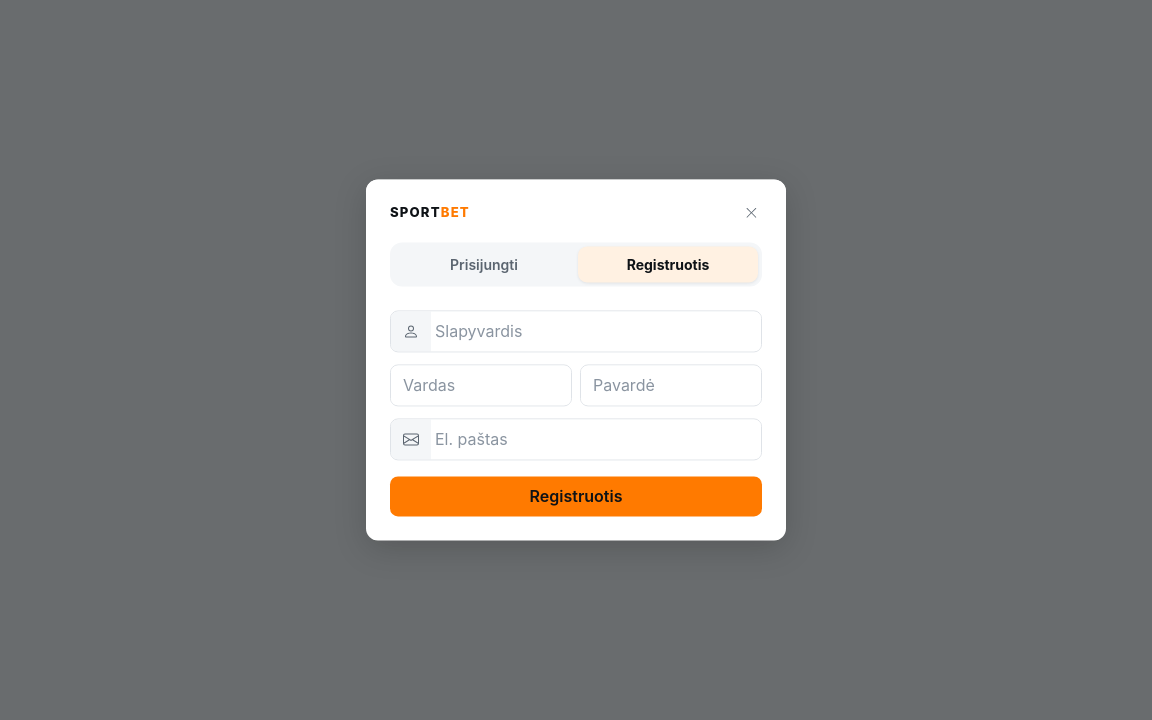
the tabs and the register form › shows a refusal that belongs to no field above the register form (Q2)
The width and height of the screenshot is (1152, 720).
Type "naujoke" into the field with placeholder "Slapyvardis".
click(596, 332); type("naujoke")  # box [431, 312, 761, 352]
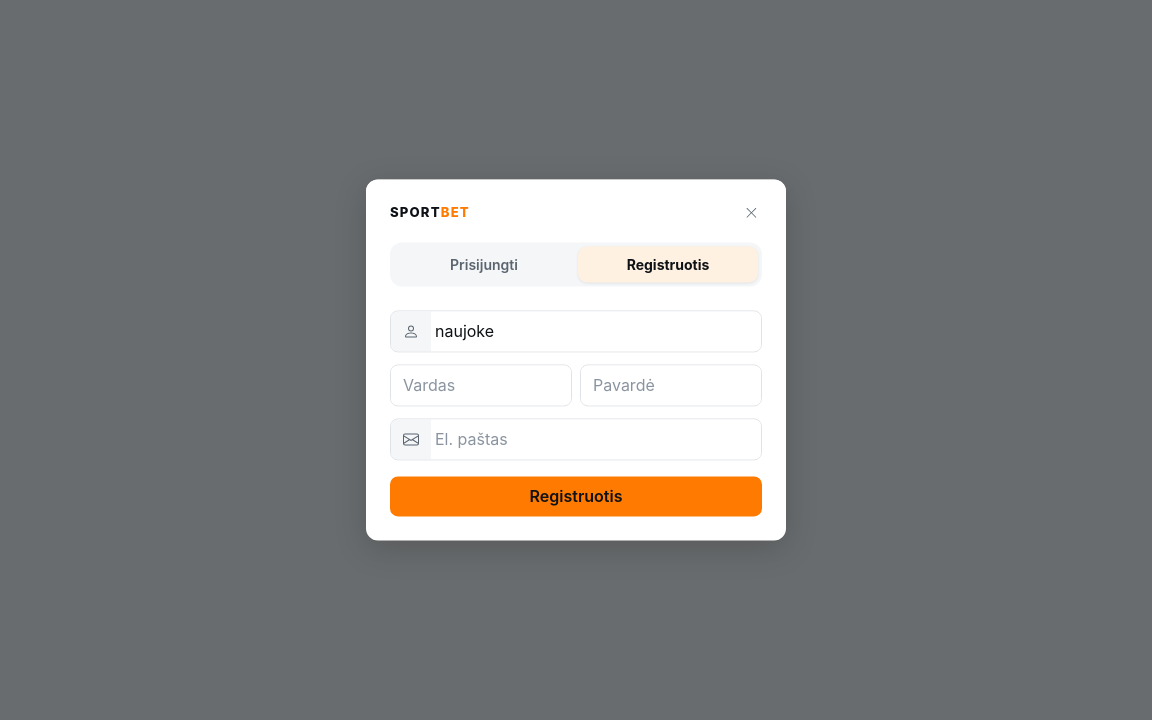
Type "Rūta" into the field with placeholder "Vardas".
click(481, 386); type("Rūta")  # box [391, 366, 571, 406]
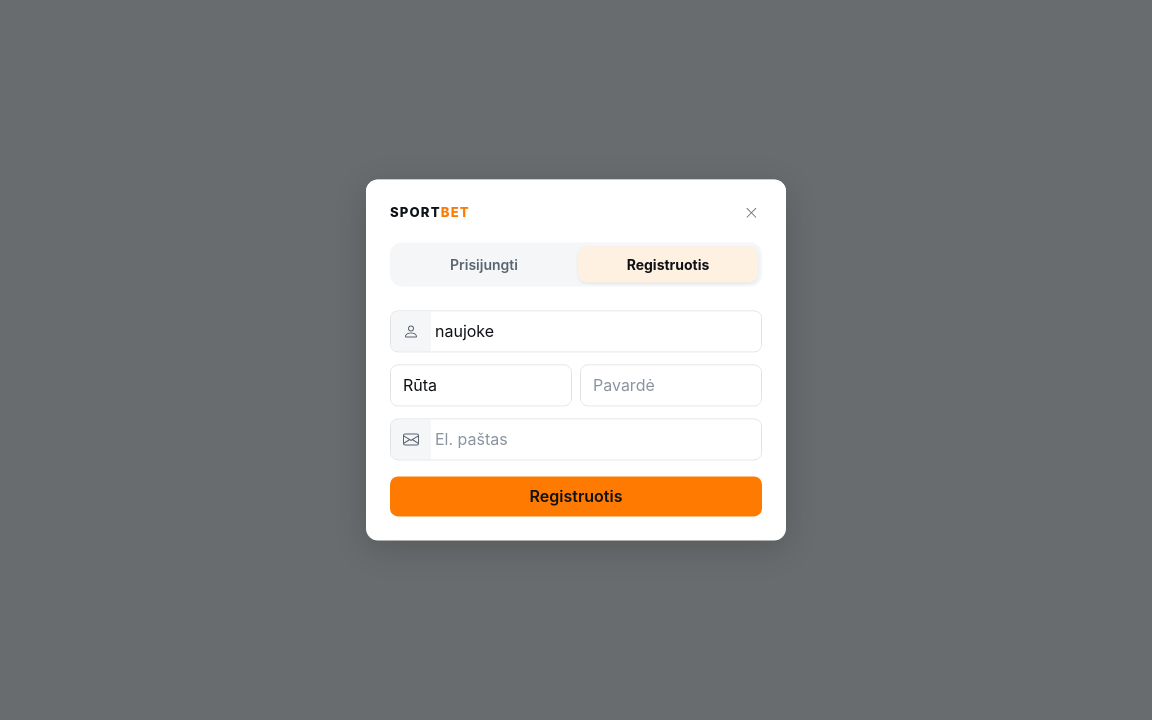
Type "ruta@example.lt" into the field with placeholder "El. paštas".
click(596, 440); type("ruta@example.lt")  # box [431, 420, 761, 460]
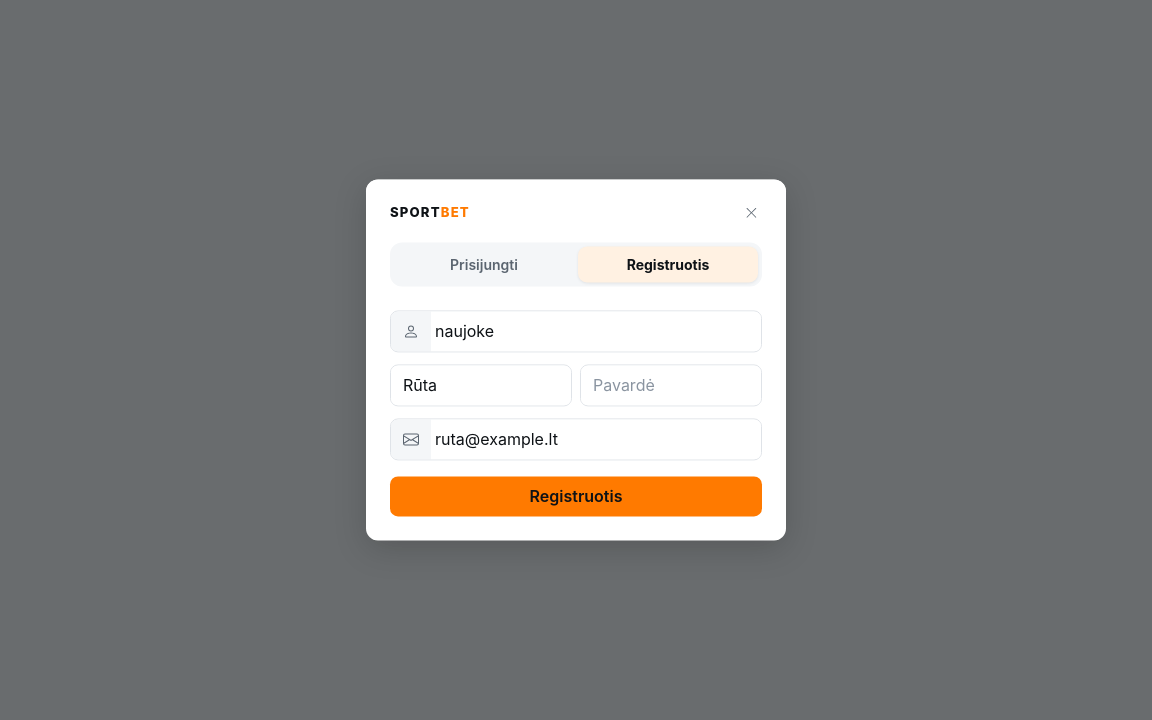
Click the button "Registruotis".
click(576, 497)  # box [390, 477, 762, 517]
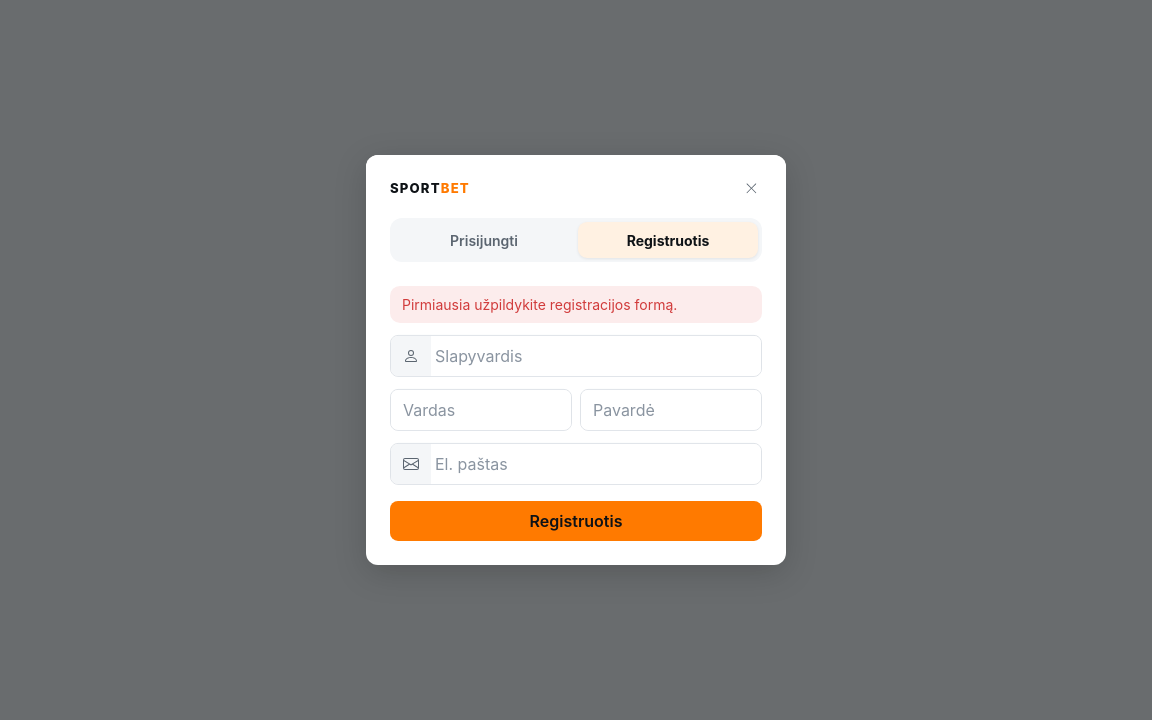
expect the message reads "Pirmiausia užpildykite registracijos formą.": met, box [402, 296, 677, 313]
